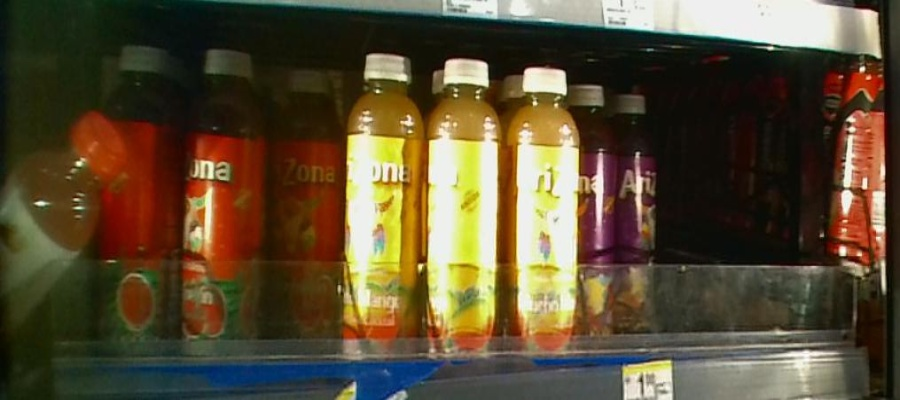bottle: (182, 27, 264, 371), (104, 25, 183, 370), (340, 42, 421, 370), (427, 50, 507, 365), (269, 48, 339, 366), (507, 52, 578, 364), (617, 87, 658, 346), (581, 70, 616, 356)
